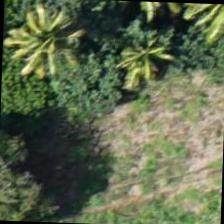Kelapa_Sawit: (96, 20, 189, 114), (1, 2, 94, 95)
